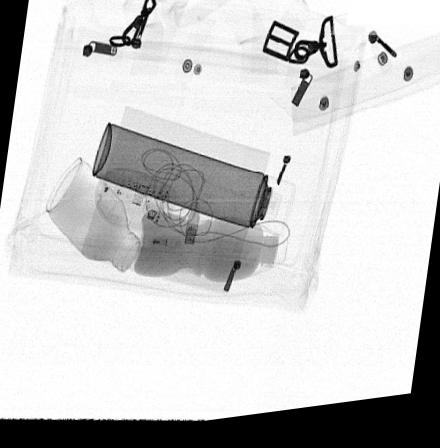Sprayer: (92, 125, 295, 245)
